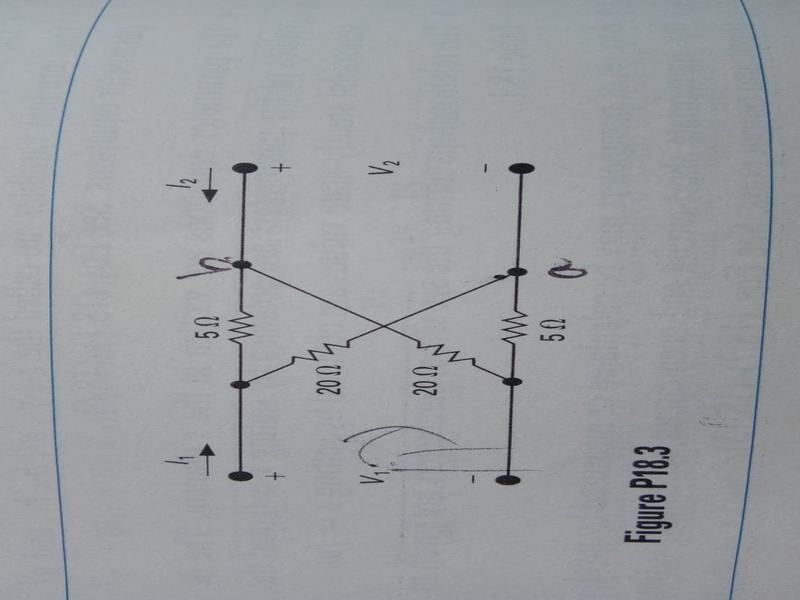resistor: (404, 334, 488, 373), (281, 333, 367, 368), (495, 296, 534, 363), (222, 300, 264, 358)
